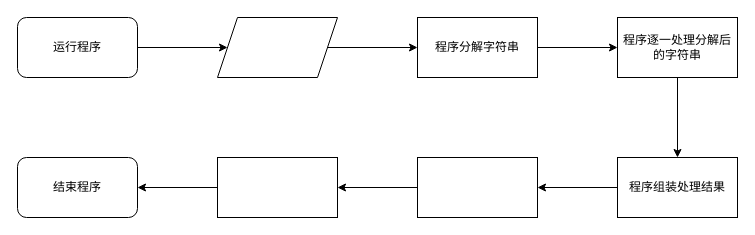
The diagram is 755 pixels wide and 235 high, and some of its shapes have lost their labels. The shapes that lost their labels are listed below. From the top down, each one's centre as x and y in pixels, then its label:
At point 277,47: "用户输入字符串".
At point 277,187: "程序自动复制转换结果".
At point 477,187: "程序输出转换结果".
